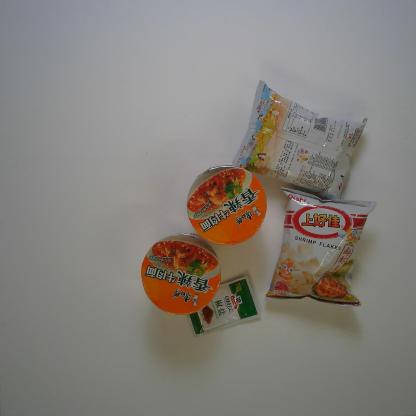Instant Noodles: (140, 230, 223, 317), (185, 164, 268, 247)
Puffed Food: (232, 78, 370, 202), (261, 185, 377, 308)
Seasoner: (188, 274, 263, 338)
